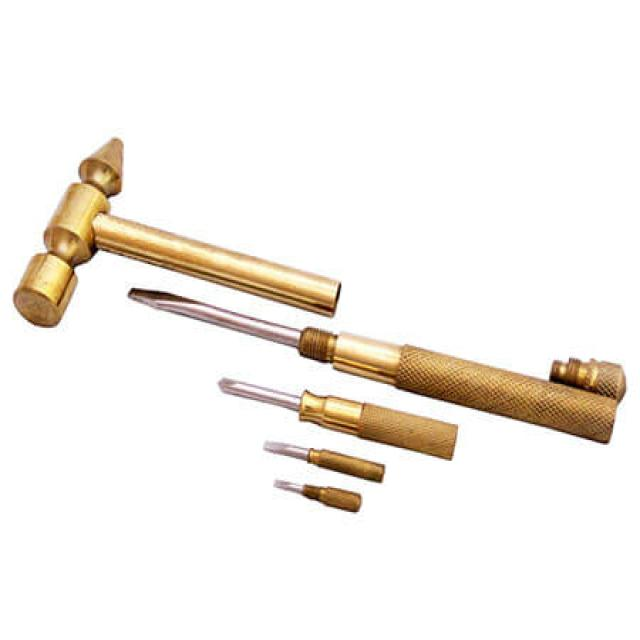Screwdriver: (129, 288, 618, 442), (219, 378, 458, 459), (264, 440, 385, 482), (274, 482, 361, 511)
